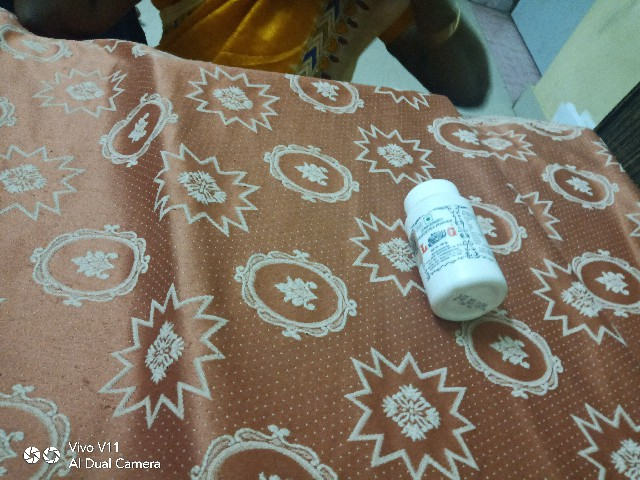lgasafoetidapowder large: (400, 177, 519, 326)
